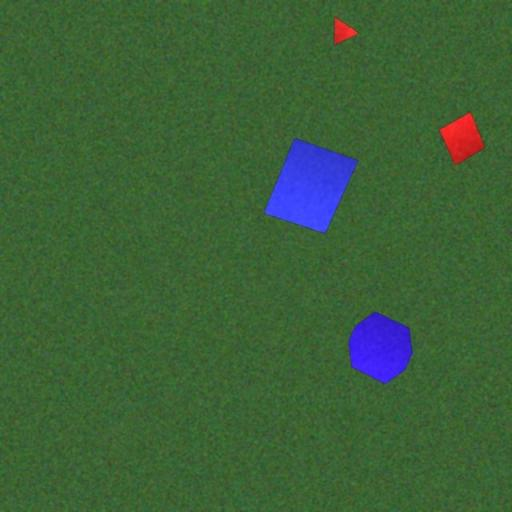BLUE_SQUARE: (262, 137, 360, 234)
RED_SQUARE: (438, 112, 486, 166)
